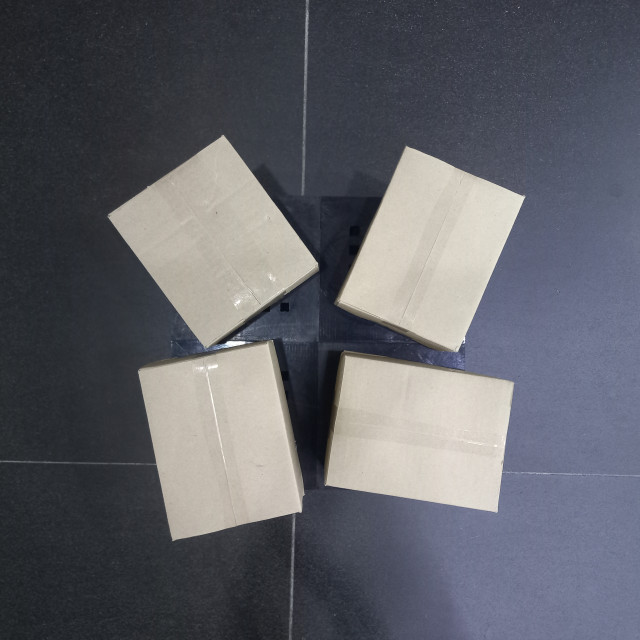box: (106, 131, 319, 352), (338, 142, 522, 354), (137, 339, 303, 544), (324, 350, 514, 515)
